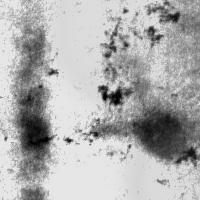patches: (58, 0, 200, 105), (133, 116, 200, 200), (14, 79, 55, 167), (128, 107, 187, 160)
